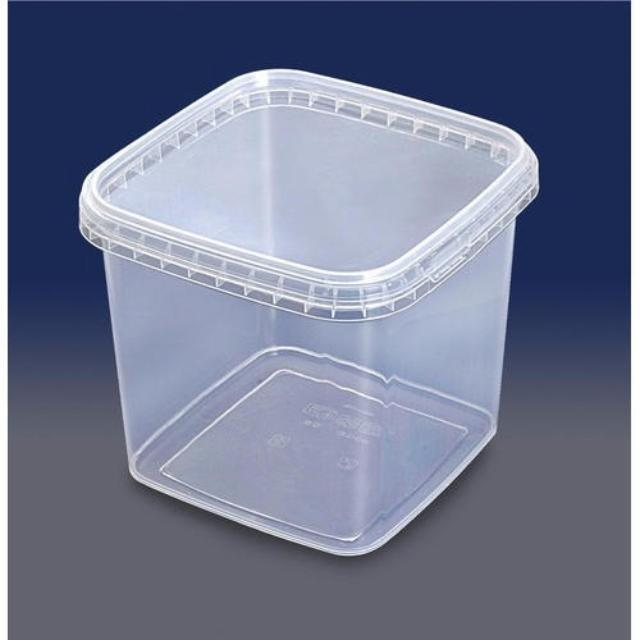plastic: (79, 70, 537, 555)
